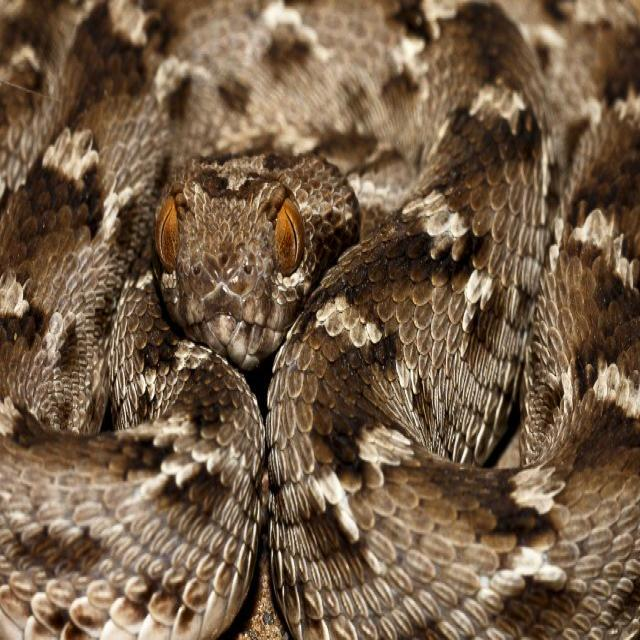Snake: (0, 3, 640, 629)
